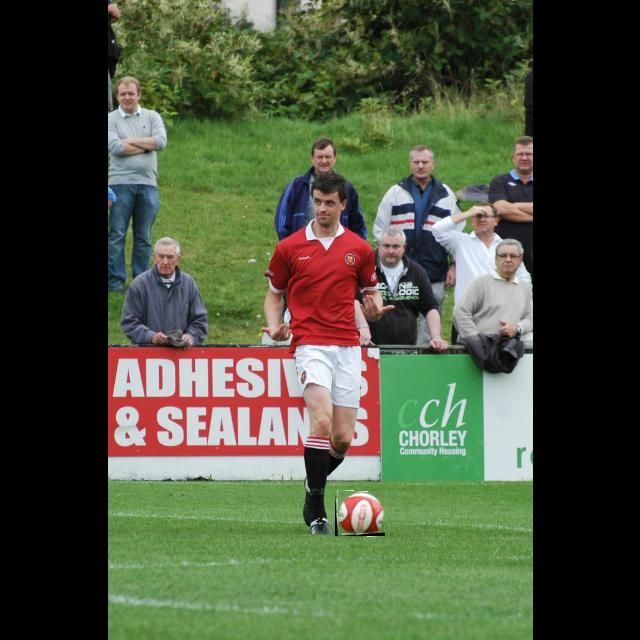Football: (335, 492, 385, 536)
